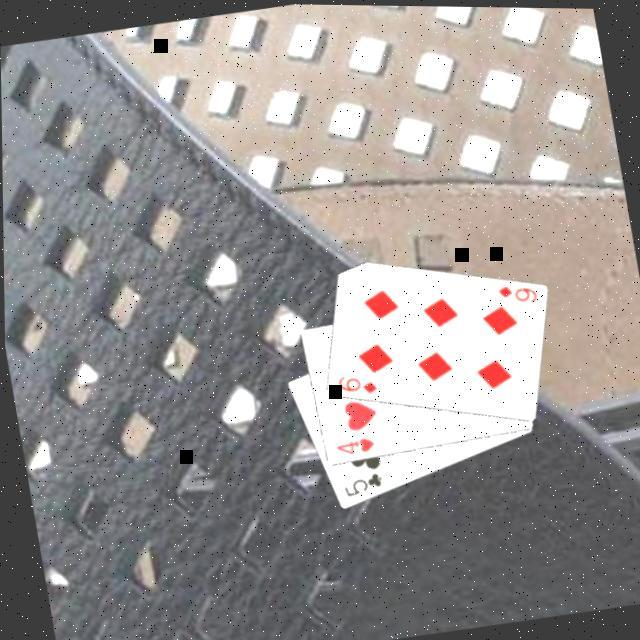4H: (329, 431, 376, 458)
5C: (336, 466, 384, 500)
6D: (492, 275, 540, 310), (331, 366, 379, 400)
